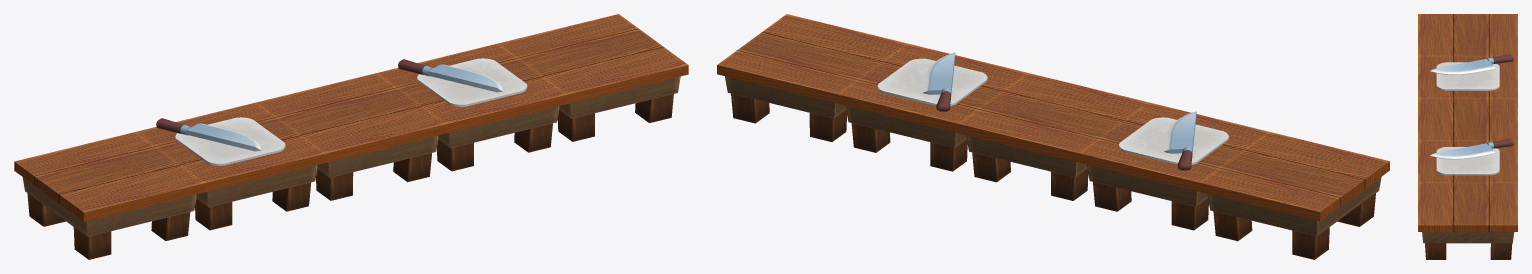
File: MovingObjects_Lower.fbx
3 views of the same model, side by side, from view 1: azimuth 30°, elevation 25°; view 2: azimuth 150°, elevation 25°; view 3: azimuth 270°, elevation 25° (orthographic). The views are drawn at different scales.
Visible parts, largest first — view 1: Worktop (×5), ChoppingBoard2 (×2), Knife (×2); view 2: Worktop (×5), ChoppingBoard2 (×2), Knife (×2); view 3: Worktop (×5), ChoppingBoard2 (×2), Knife (×2).
Part boxes in pixels (box(x1,y1,x2,y2)): Worktop (×5): box(14, 14, 688, 259); ChoppingBoard2 (×2): box(175, 58, 527, 165); Knife (×2): box(156, 59, 502, 151); Worktop (×5): box(717, 14, 1389, 259); ChoppingBoard2 (×2): box(877, 58, 1228, 164); Knife (×2): box(923, 52, 1196, 170); Worktop (×5): box(1418, 14, 1517, 259); ChoppingBoard2 (×2): box(1436, 62, 1499, 175); Knife (×2): box(1430, 54, 1513, 159).
Size of the model in its own units: 6 by 0.6324 by 1.2.
Materials: 3 (3 with a texture image).
